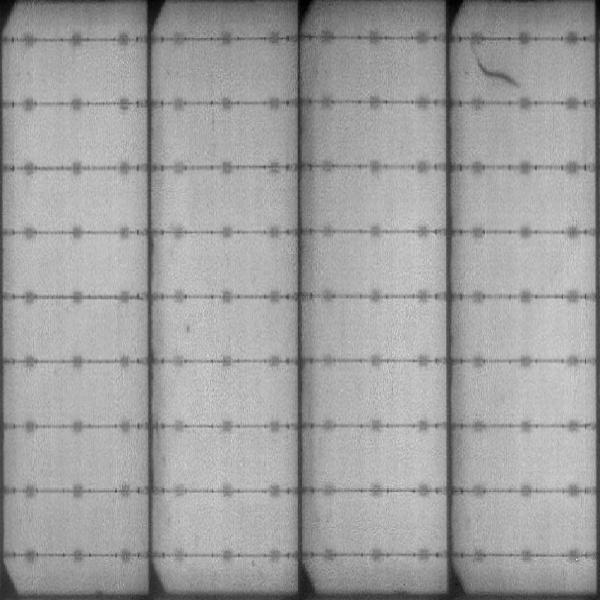scratch: (474, 61, 524, 88)
